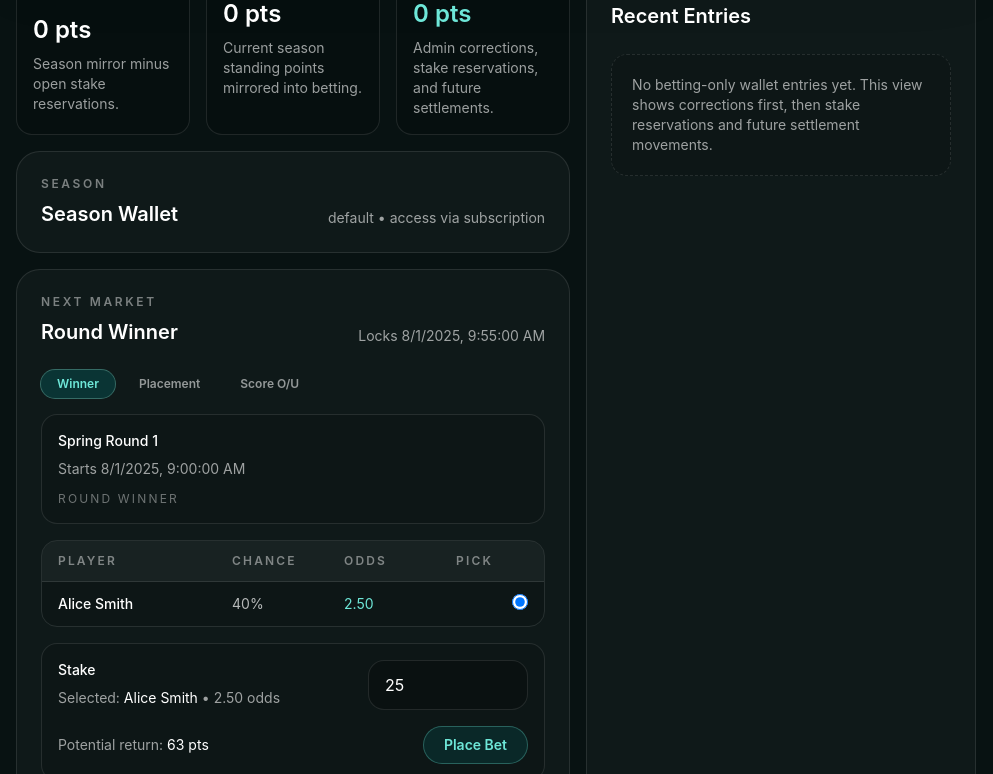
Test: Betting page › Market tabs › shows "Selection" column header on Score O/U tab
(page scrolled)
Click the button "Score O/U". click: (270, 384)
box: 224,370 -> 315,398
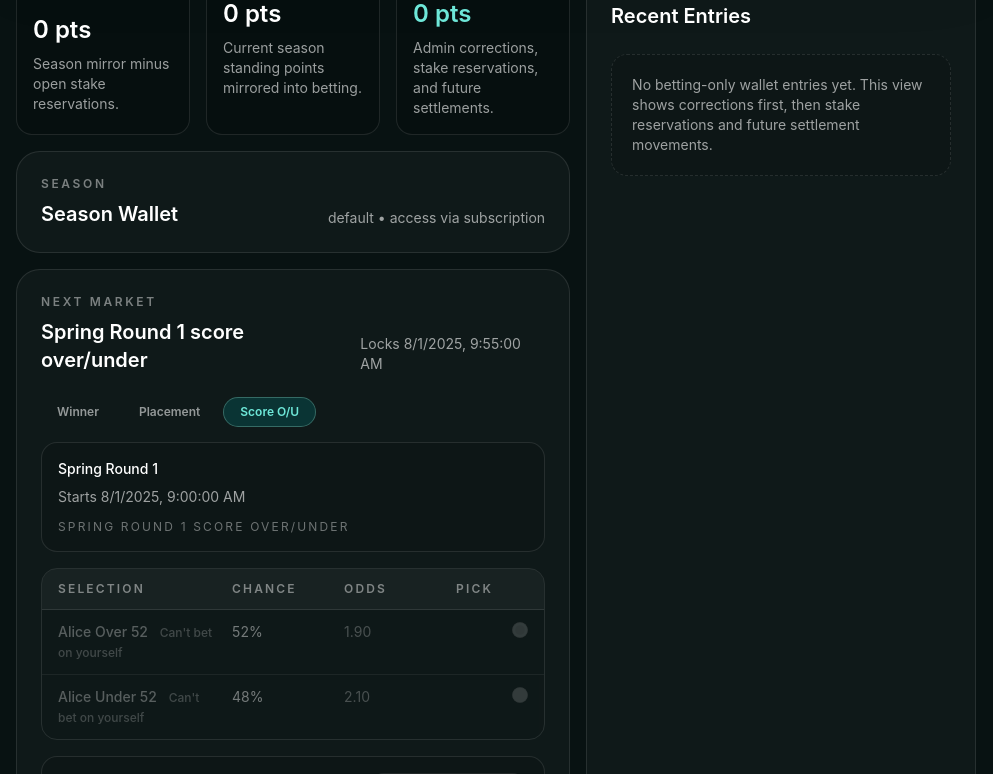
Now the text "Selection" is shown, box 58,581 -> 145,596
